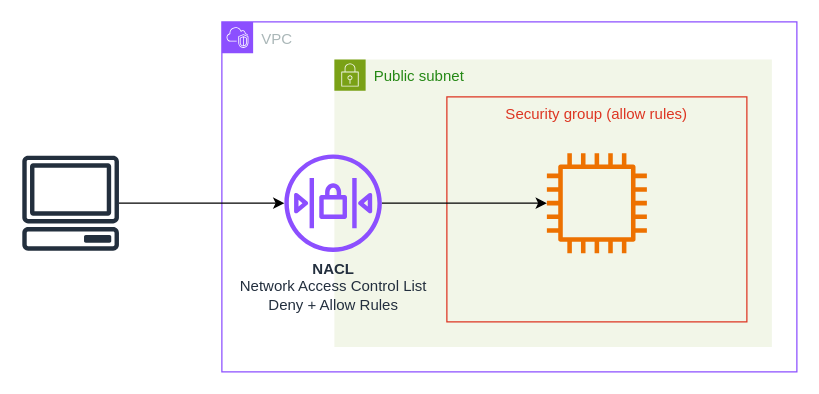
Image size: 819x394. Some labels were removed from this diagram. Here are the shapes that lost their labels. From the top down, the centre of each, then its label:
At (70,202): "Client".
At (596,202): "EC2 Instance Public IP + Firewall Software (optional)".
